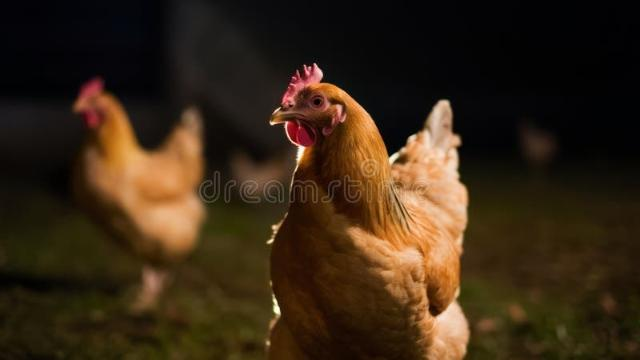Chicken: (266, 61, 472, 360)
